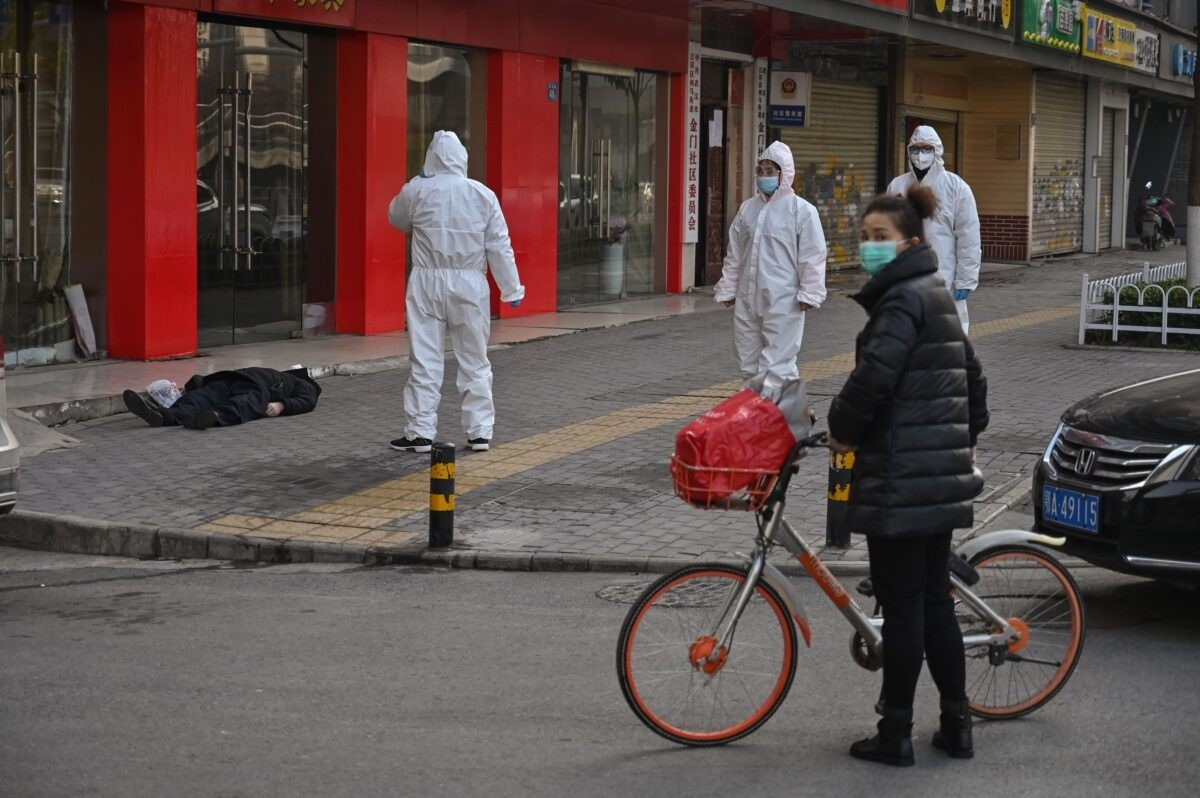face_with_mask: (853, 192, 928, 279), (751, 142, 792, 199), (905, 125, 943, 176)
